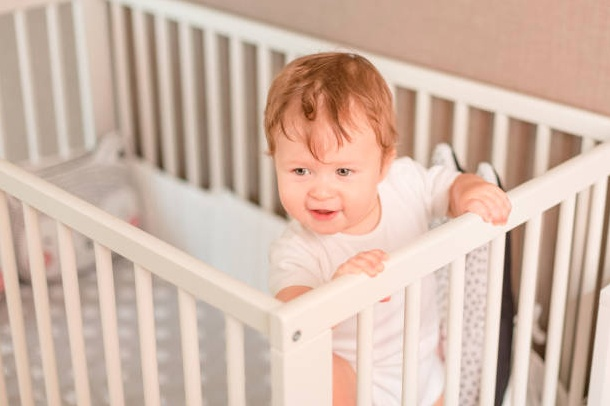baby: (264, 52, 510, 300)
crib: (0, 0, 609, 404)
